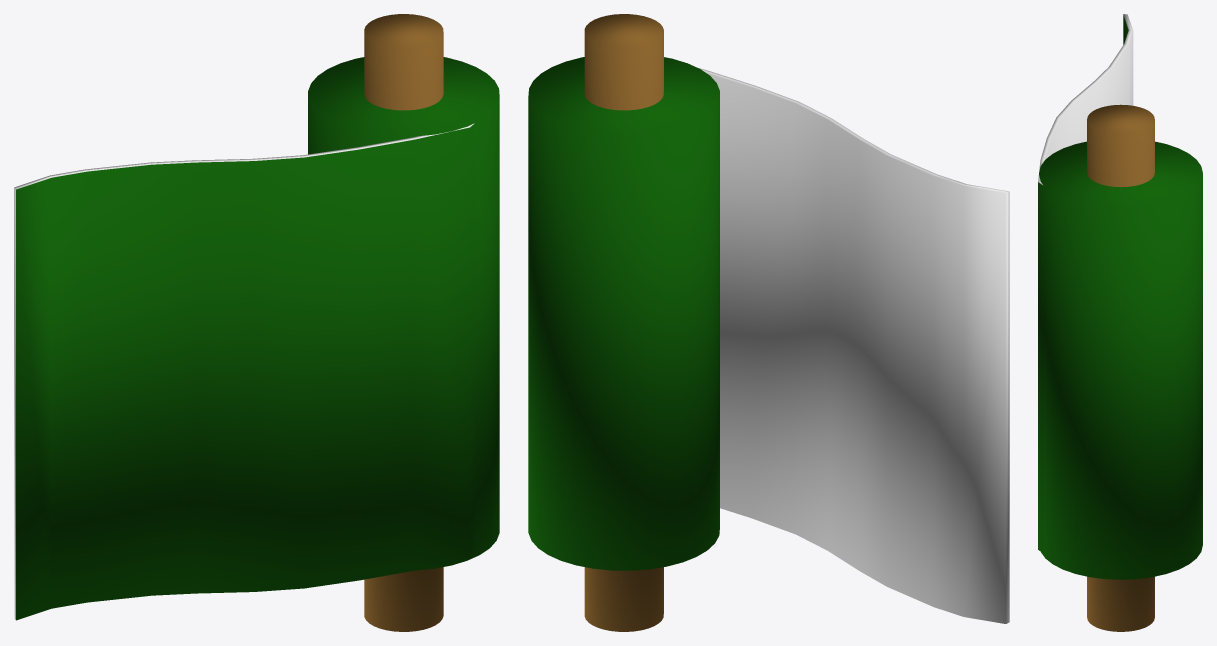
The model's file is item05.fbx.
3 renders of one model, left to right at view 1: azimuth 30°, elevation 25°; view 2: azimuth 150°, elevation 25°; view 3: azimuth 270°, elevation 25°, orthographic. The views are drawn at different scales.
Parts seen in each view (by area): view 1: ベジエカーブ; view 2: ベジエカーブ; view 3: ベジエカーブ.
Boxes of the visible parts, left/top/right/bottom form: ベジエカーブ: left=14, top=14, right=499, bottom=631; ベジエカーブ: left=528, top=14, right=1009, bottom=631; ベジエカーブ: left=1038, top=14, right=1202, bottom=631.
Size of the model in its own units: 42.05 by 50 by 14.98.
